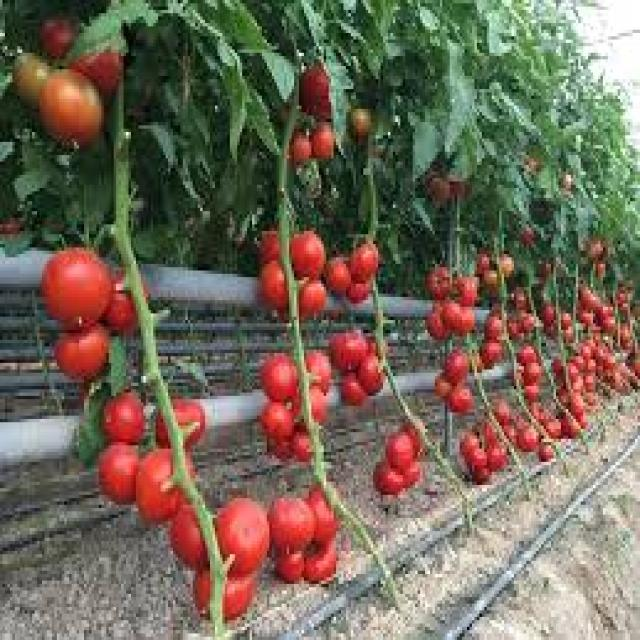Tomato: (97, 384, 260, 625), (38, 222, 150, 405), (14, 0, 128, 148), (271, 38, 366, 181), (254, 346, 340, 482), (252, 209, 342, 333), (576, 241, 640, 401), (262, 476, 348, 590), (417, 258, 483, 376), (531, 303, 599, 417), (450, 401, 523, 478), (469, 244, 521, 351), (370, 416, 432, 502), (326, 226, 374, 324), (479, 327, 548, 394), (330, 333, 393, 404), (516, 390, 560, 464), (429, 348, 478, 412)
